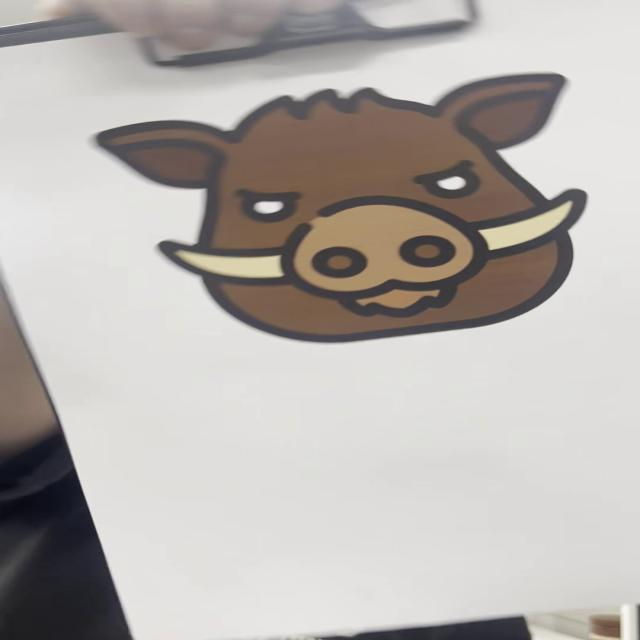animal: (92, 71, 593, 344)
